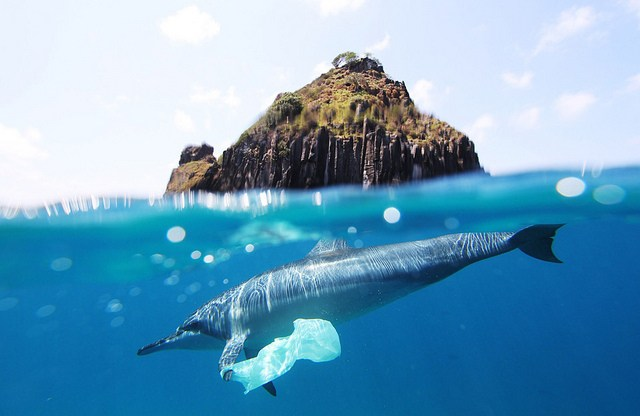litter: (217, 315, 345, 394)
